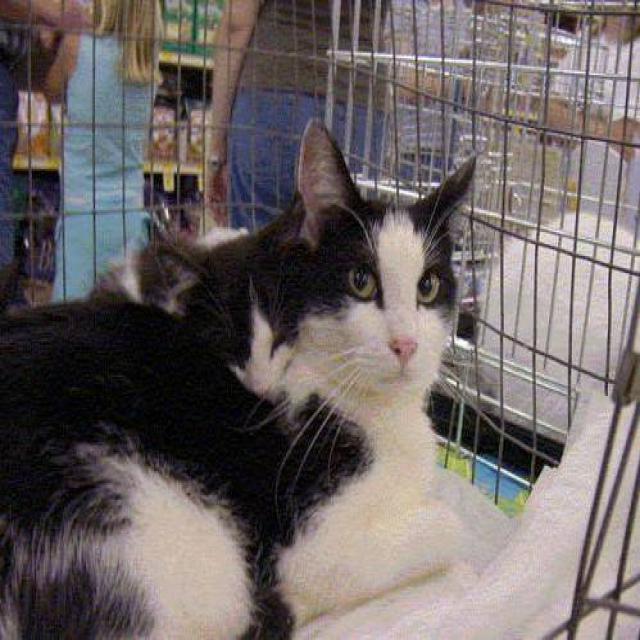cat: (0, 116, 504, 638)
